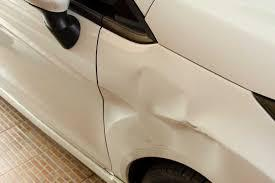fender-dent: (95, 70, 255, 182)
